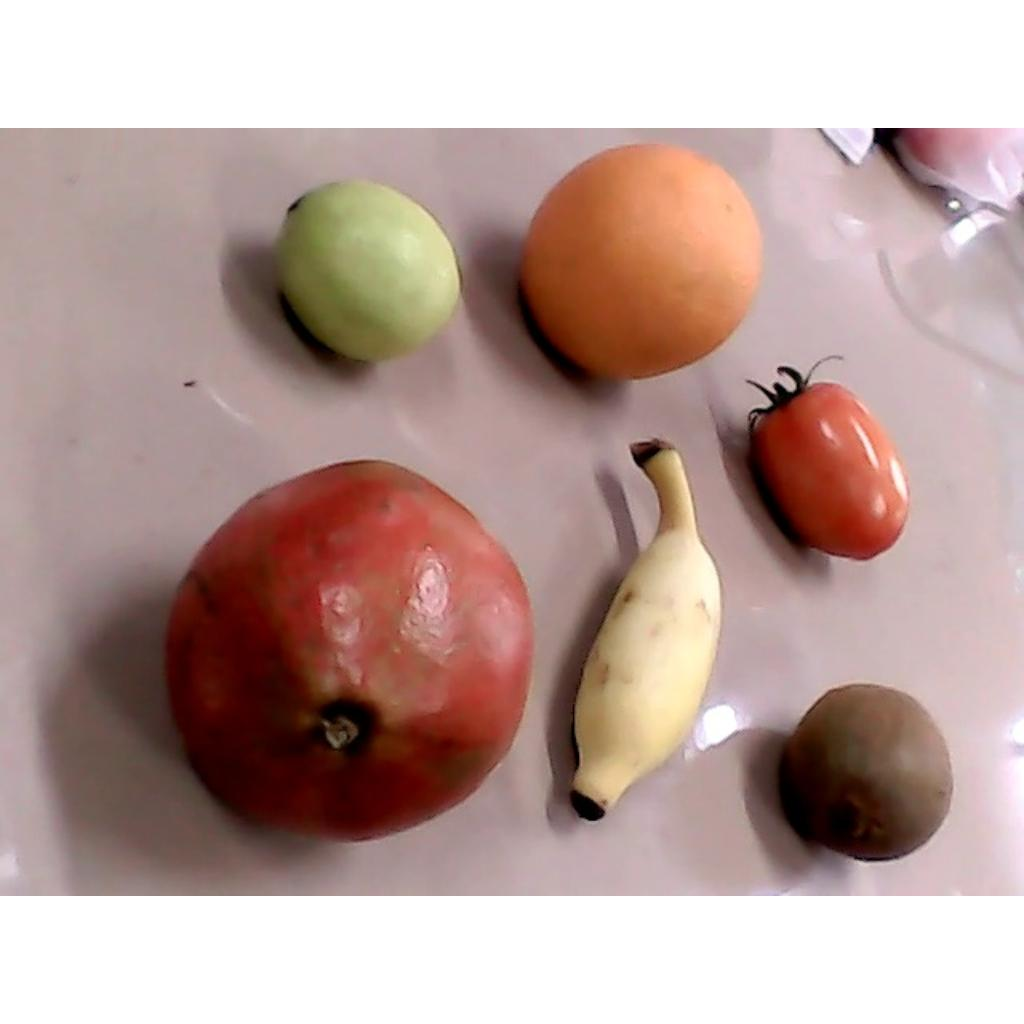kiwi: (788, 684, 954, 861)
lemon: (277, 179, 461, 366)
orange: (520, 142, 761, 383)
pomegranate: (164, 456, 536, 842)
tomato: (746, 354, 912, 560)
